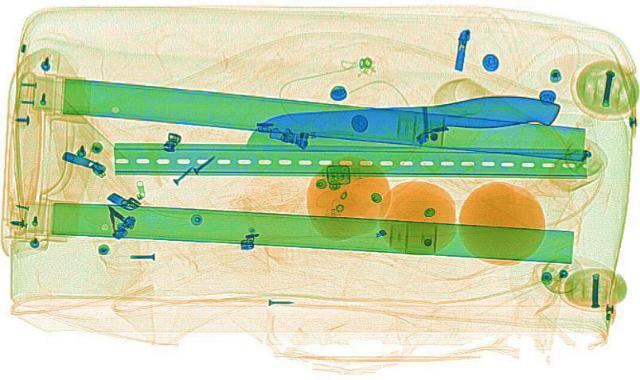Knife: (240, 89, 566, 160)
